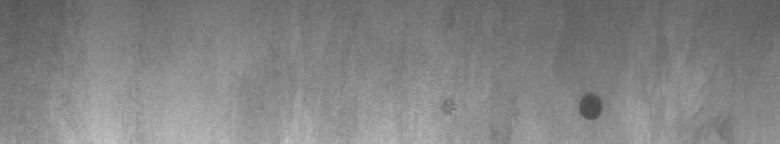fi: (572, 84, 607, 127)
